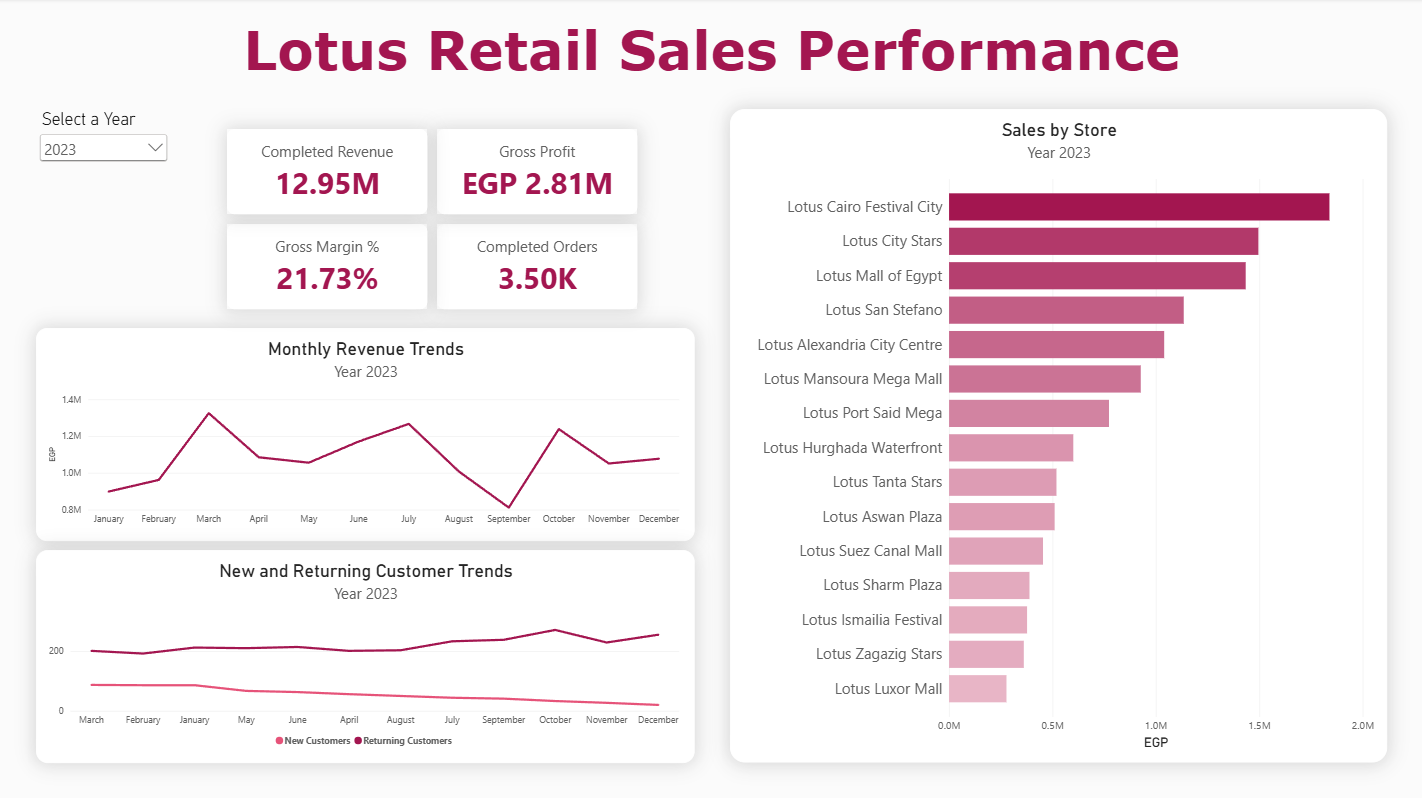

The dashboard page shown, as its layout file describes it:
{"tool":"powerbi","page":{"name":"Page 1","canvas":[1920,1080],"ordinal":0},"visuals":[{"type":"lineChart","title":"Monthly Revenue Trends","fields":{"Category":["fact_orders.Order Date.Variation.Date Hierarchy.Month"],"Y":["Sum(fact_orders.Total Revenue)"]},"box":[50,445,886.7,286.7],"z":0},{"type":"slicer","fields":{"Values":["dim_date.Year"]},"box":[50,150,181.7,78.3],"z":1000},{"type":"barChart","title":"Sales by Store","fields":{"Category":["dim_stores.Store Name"],"Y":["Sum(fact_orders.Total Revenue)"]},"box":[985,150,885,880],"z":2000},{"type":"lineChart","title":"New and Returning Customer Trends","fields":{"Category":["dim_date.Month Name"],"Y":["fact_orders.New Customers","fact_orders.Returning Customers (Display)"]},"box":[50,743.3,886.7,286.7],"z":3000},{"type":"cardVisual","fields":{"Data":["fact_orders.Completed Orders"]},"box":[590,304,270,115],"z":4000},{"type":"cardVisual","fields":{"Data":["fact_orders.Gross Profit"]},"box":[590,177,270,115],"z":5000},{"type":"cardVisual","fields":{"Data":["fact_orders.Gross Margin %"]},"box":[307,304,270,115],"z":6000},{"type":"textbox","box":[0,26,1920,98.3],"z":7000},{"type":"cardVisual","fields":{"Data":["fact_orders.Completed Revenue"]},"box":[306.7,176.7,270,115],"z":8000}]}

Visuals, with their boxes in screenshot pixels (x1, y1, x2, y2), scaled from the page's 1920x1080 canvas onto the 1422x798 screenshot:
"Monthly Revenue Trends" lineChart: 37,329,694,541
slicer - dim_date.Year: 37,111,172,169
"Sales by Store" barChart: 730,111,1385,761
"New and Returning Customer Trends" lineChart: 37,549,694,761
cardVisual - fact_orders.Completed Orders: 437,225,637,310
cardVisual - fact_orders.Gross Profit: 437,131,637,216
cardVisual - fact_orders.Gross Margin %: 227,225,427,310
textbox: 0,19,1421,92
cardVisual - fact_orders.Completed Revenue: 227,131,427,216
